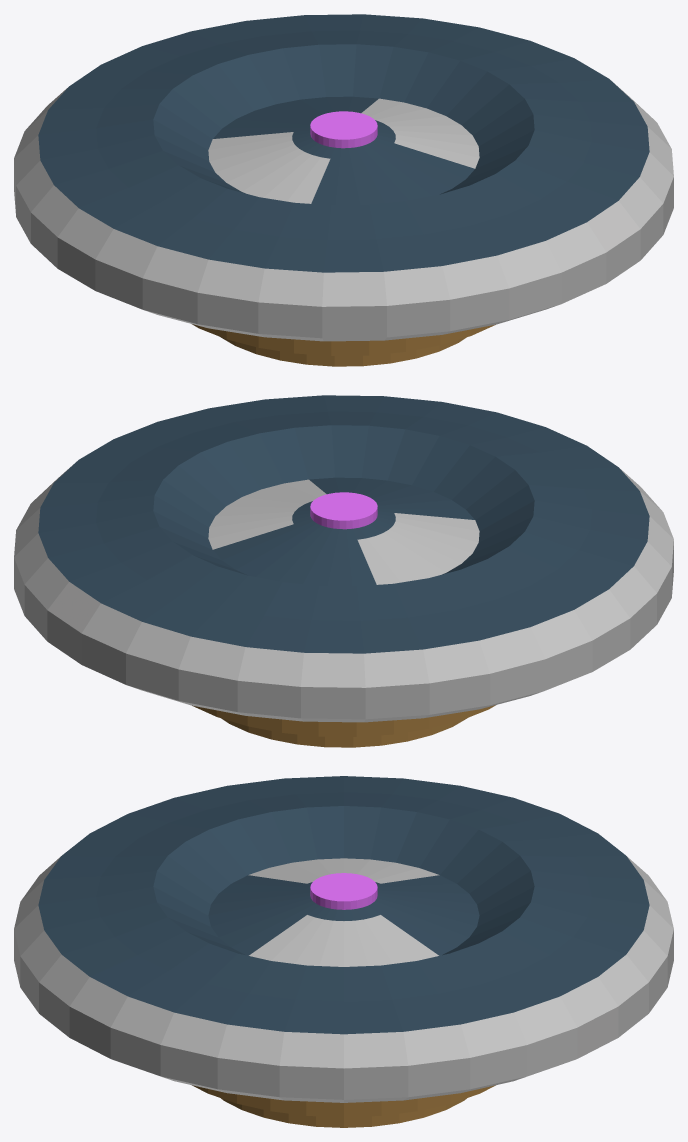
Rendered from Enemybeyblade.fbx.
3 views of the same model, one above another, from view 1: azimuth 30°, elevation 25°; view 2: azimuth 150°, elevation 25°; view 3: azimuth 270°, elevation 25° (orthographic).
Parts seen in each view (by area): view 1: Cylinder, Cylinder.001; view 2: Cylinder, Cylinder.001; view 3: Cylinder, Cylinder.001.
Part boxes in pixels (x1,y1,x2,y2): Cylinder: [14, 14, 673, 366]; Cylinder.001: [310, 111, 377, 148]; Cylinder: [14, 395, 673, 747]; Cylinder.001: [310, 492, 377, 529]; Cylinder: [14, 776, 673, 1127]; Cylinder.001: [310, 873, 377, 909].
Size of the model in its own units: 216 by 74.78 by 216.
